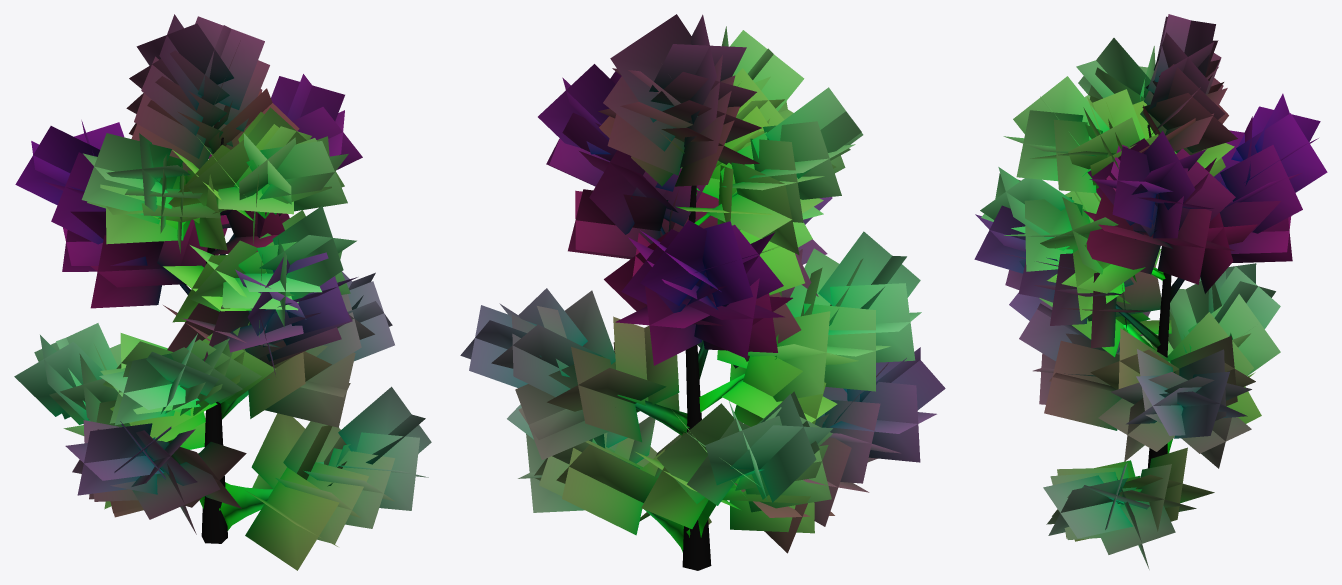
File: URP_P11_Tree_5_LOD_3.fbx
3 renders of one model, left to right at view 1: azimuth 30°, elevation 25°; view 2: azimuth 150°, elevation 25°; view 3: azimuth 270°, elevation 25°, orthographic. The views are drawn at different scales.
Parts seen in each view (by area): view 1: Tree_5_LOD_3; view 2: Tree_5_LOD_3; view 3: Tree_5_LOD_3.
Part boxes in pixels (x1,y1,x2,y2): Tree_5_LOD_3: (14, 14, 431, 570); Tree_5_LOD_3: (460, 14, 945, 570); Tree_5_LOD_3: (974, 14, 1327, 569).
Bounding box in the file's own units: 585 × 801 × 522.
